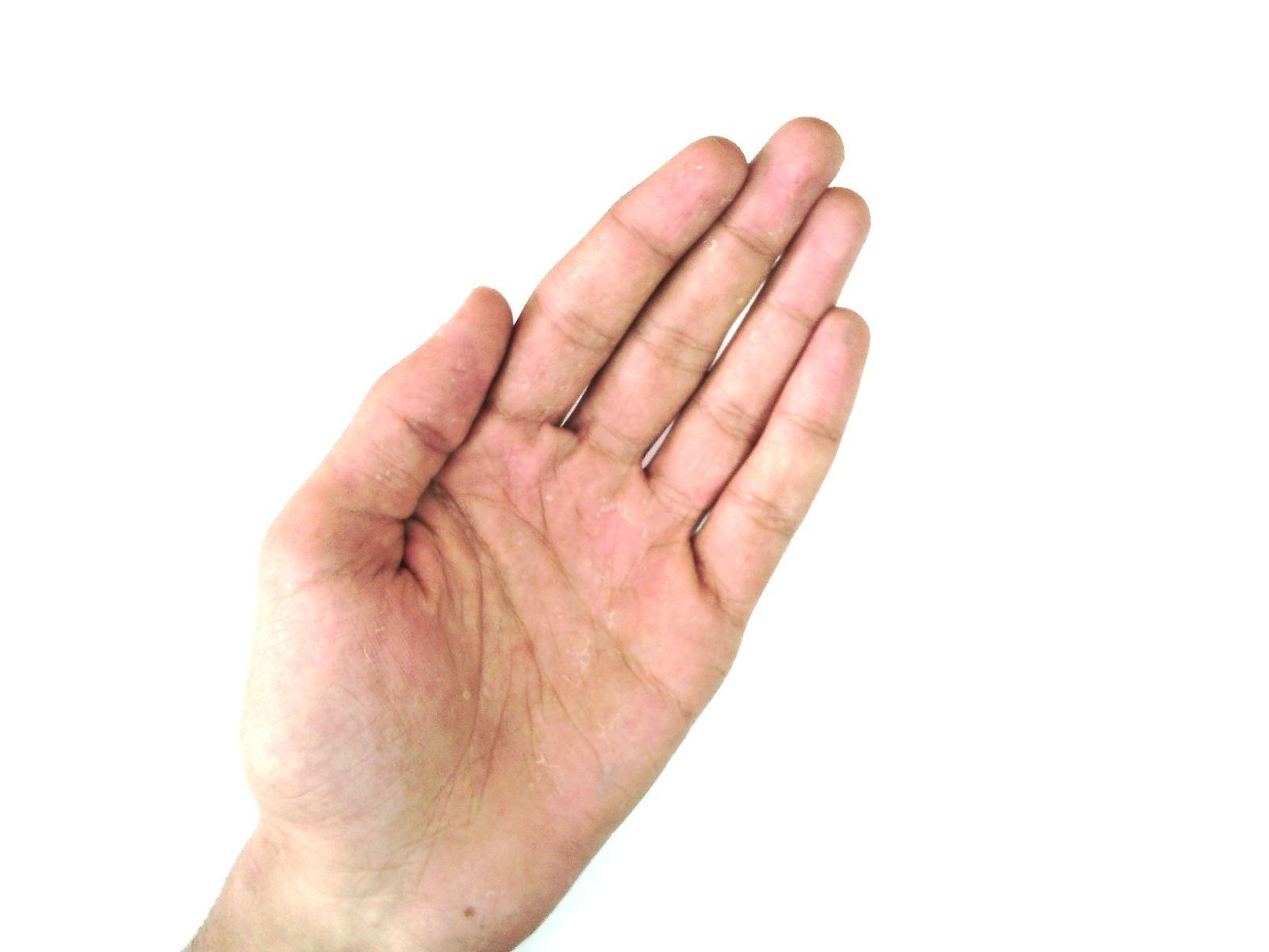open_palm: (209, 115, 876, 948)
